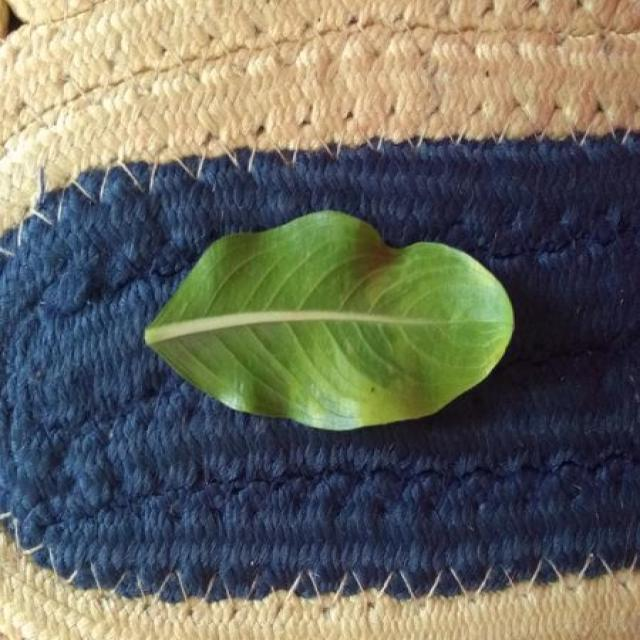catharanthus: (145, 211, 513, 429)
